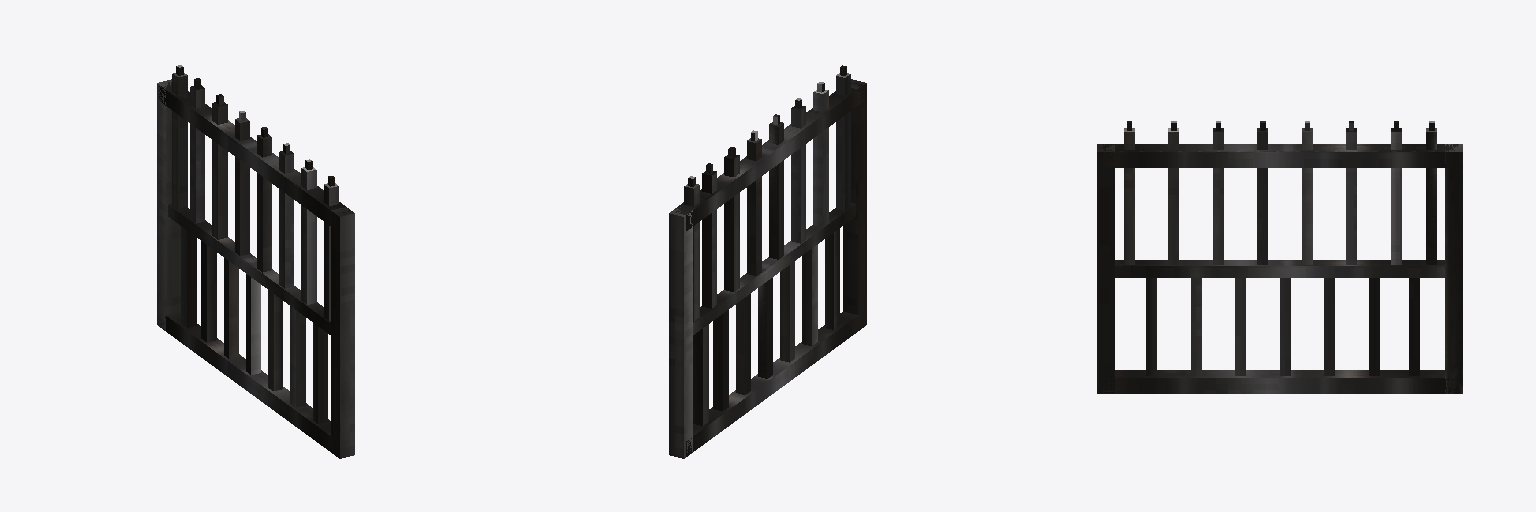
3 views of the same model, side by side, from view 1: azimuth 30°, elevation 25°; view 2: azimuth 150°, elevation 25°; view 3: azimuth 270°, elevation 25° (orthographic).
Size of the model in its own units: 0.2 by 3.33 by 4.11.
1 materials, 1 textured.